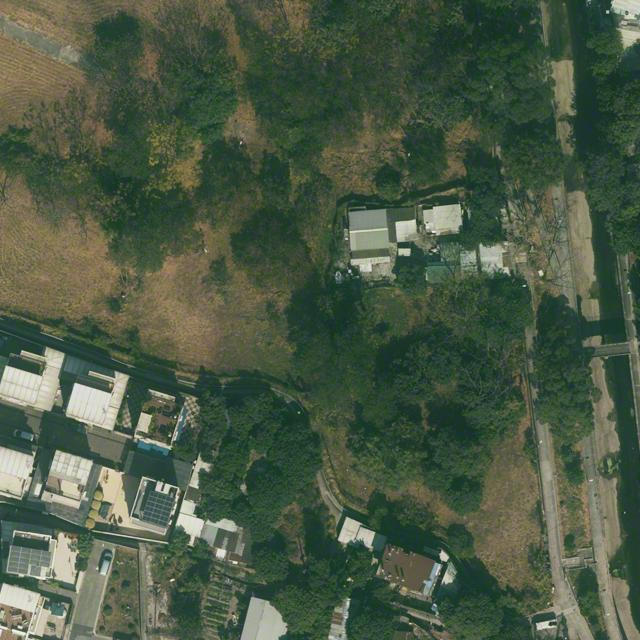panel: (8, 546, 52, 574), (142, 490, 175, 527)
